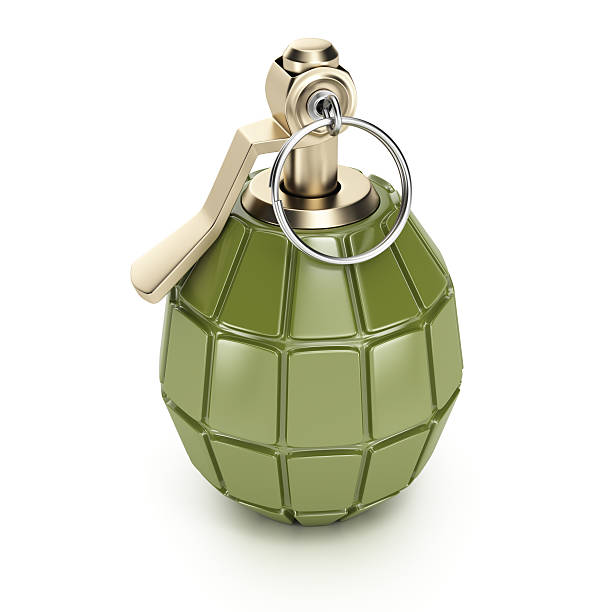e1: (133, 38, 463, 525)
